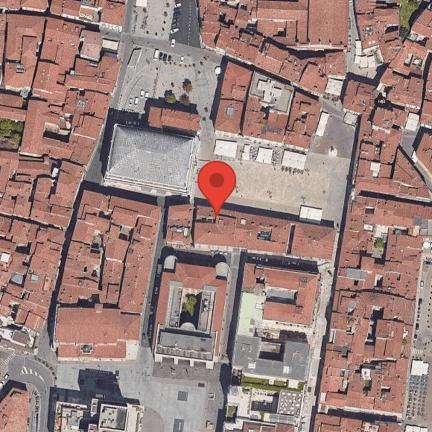area_open: (193, 94, 359, 227), (0, 346, 224, 432), (203, 138, 347, 220), (108, 34, 225, 126), (117, 38, 220, 121), (406, 217, 432, 432), (412, 225, 431, 431), (145, 376, 212, 431), (125, 1, 202, 46), (56, 371, 136, 400), (134, 0, 178, 38), (320, 111, 349, 151)
built: (317, 196, 422, 423), (52, 189, 161, 365), (197, 0, 347, 99), (23, 21, 124, 168), (0, 156, 82, 337), (201, 2, 332, 99), (320, 290, 417, 416), (166, 198, 335, 262), (335, 196, 432, 300), (239, 260, 320, 382), (212, 60, 324, 147), (150, 258, 231, 362), (0, 215, 68, 337), (152, 257, 224, 371), (0, 14, 84, 106), (355, 101, 431, 202), (207, 0, 351, 48), (352, 114, 432, 200), (104, 125, 199, 196), (105, 125, 200, 194), (111, 194, 165, 315), (376, 7, 430, 123), (233, 317, 314, 384), (0, 89, 76, 160), (0, 14, 47, 127), (245, 263, 321, 330), (198, 201, 294, 254), (56, 306, 142, 361), (223, 386, 314, 432), (223, 381, 304, 431), (0, 0, 126, 30), (0, 153, 52, 225), (354, 0, 406, 66), (50, 396, 142, 431), (45, 159, 88, 231), (100, 225, 136, 309), (58, 244, 103, 307), (353, 0, 404, 51), (50, 0, 128, 33), (412, 54, 432, 178), (282, 87, 321, 150), (63, 55, 124, 95), (379, 64, 426, 114), (243, 101, 291, 145), (66, 114, 103, 169), (292, 220, 338, 261), (313, 411, 401, 432), (89, 401, 143, 432), (146, 102, 200, 133), (64, 89, 111, 124), (343, 77, 383, 117), (146, 106, 203, 134), (393, 36, 428, 81), (0, 385, 32, 432), (219, 59, 253, 103), (0, 389, 31, 431), (78, 191, 111, 230), (372, 101, 414, 131), (69, 219, 108, 251), (51, 401, 91, 432), (213, 100, 246, 137), (166, 204, 194, 246), (410, 1, 432, 44), (344, 80, 369, 117), (80, 30, 105, 63), (74, 54, 105, 80), (1, 0, 48, 13)
vegetation_high: (0, 122, 17, 145)
vegetation_low: (398, 0, 429, 35), (0, 120, 27, 152)
